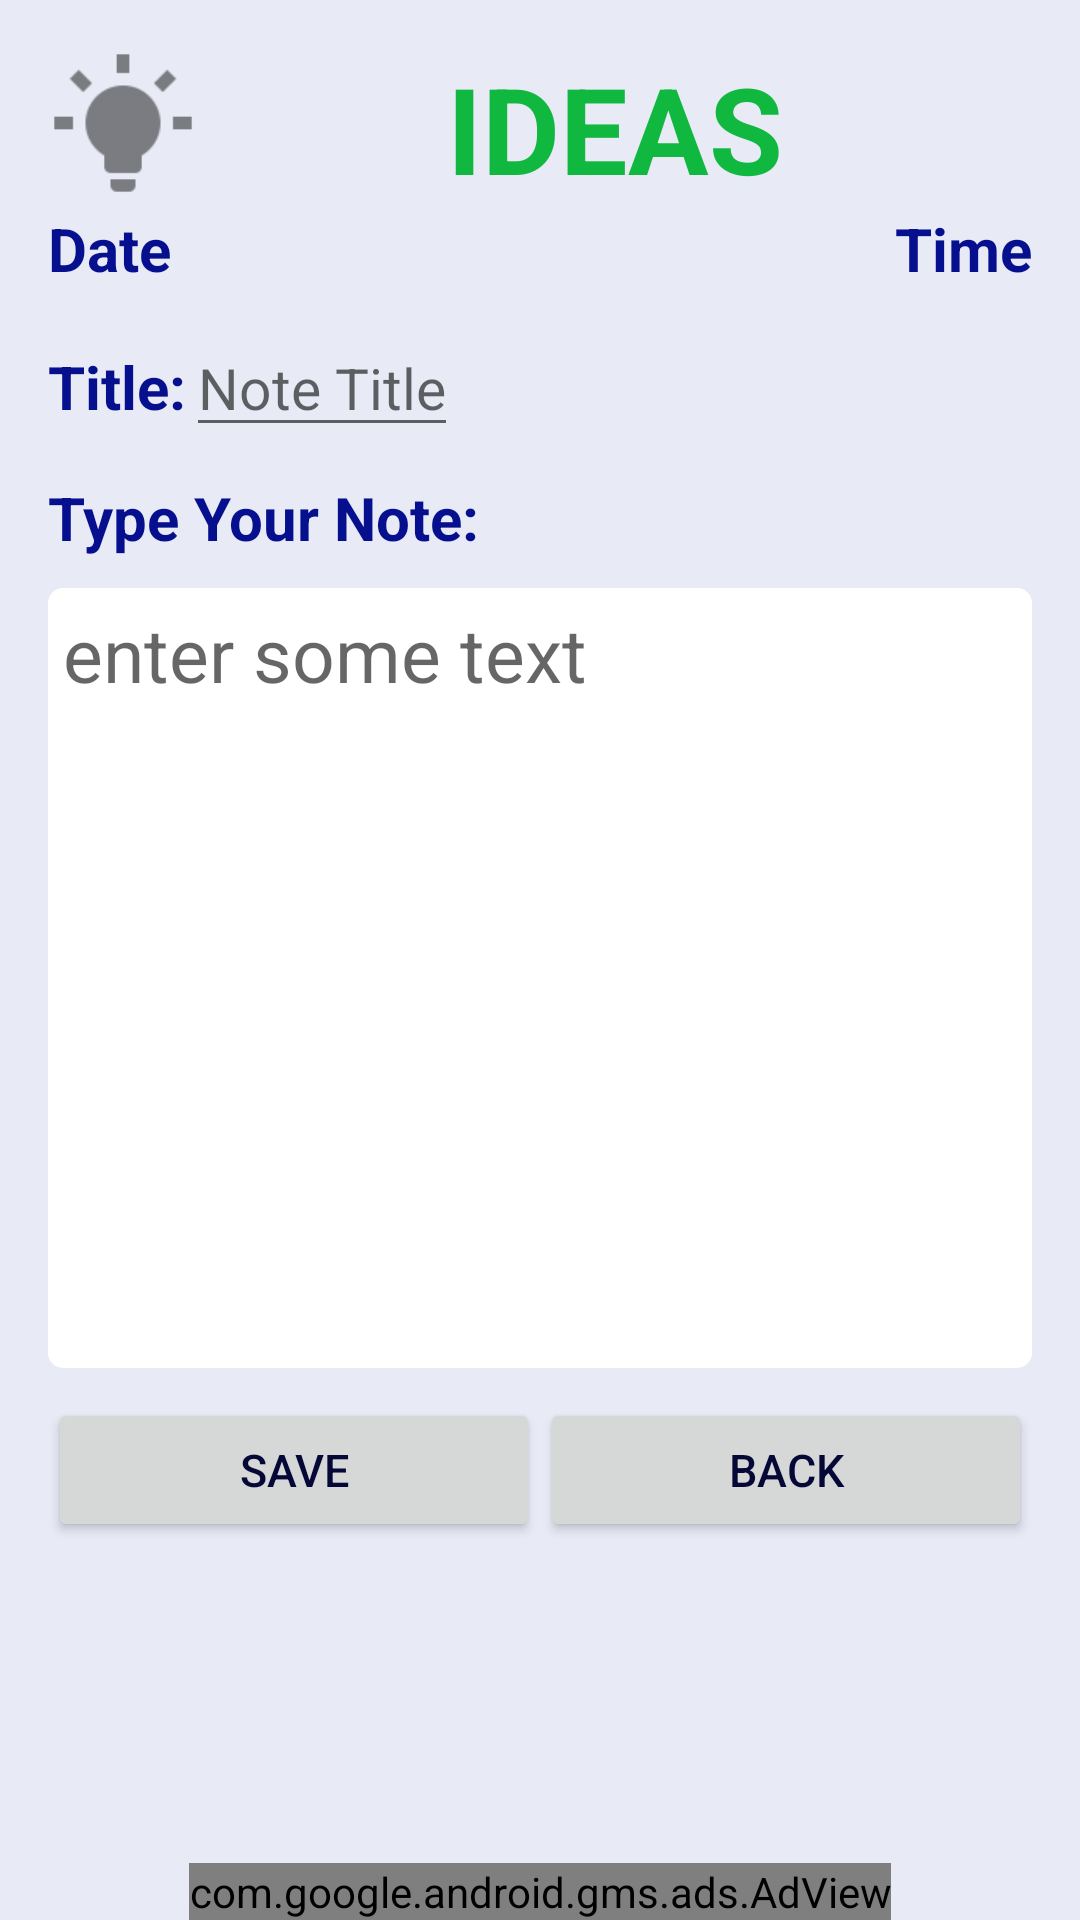

Icon click points for this 1080w x 1920h phone screenshot, format point (x, y):
lightbulb on: point (123, 123)
